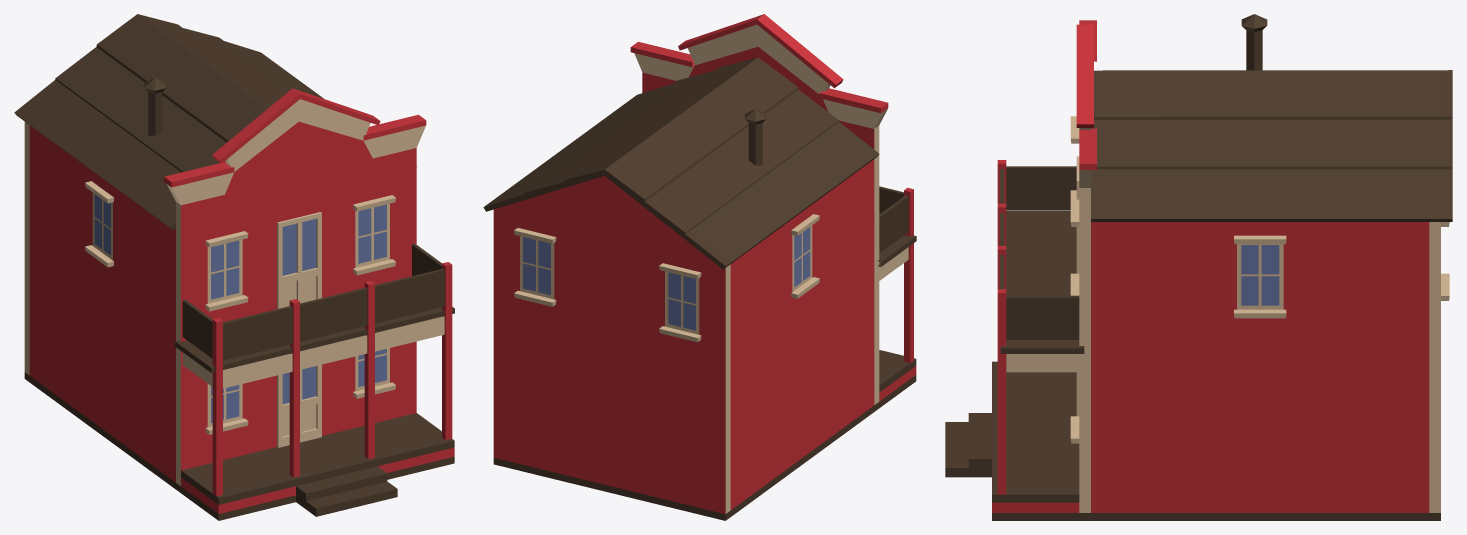
File: hotel-western.fbx
3 views of the same model, side by side, from view 1: azimuth 30°, elevation 25°; view 2: azimuth 150°, elevation 25°; view 3: azimuth 270°, elevation 25° (orthographic). The views are drawn at different scales.
Parts seen in each view (by area): view 1: hotel-western; view 2: hotel-western; view 3: hotel-western.
Part boxes in pixels (x1,y1,x2,y2): hotel-western: [14, 14, 454, 520]; hotel-western: [483, 14, 916, 520]; hotel-western: [945, 14, 1452, 520].
Bounding box in the file's own units: 5.83 × 8.13 × 8.7.
